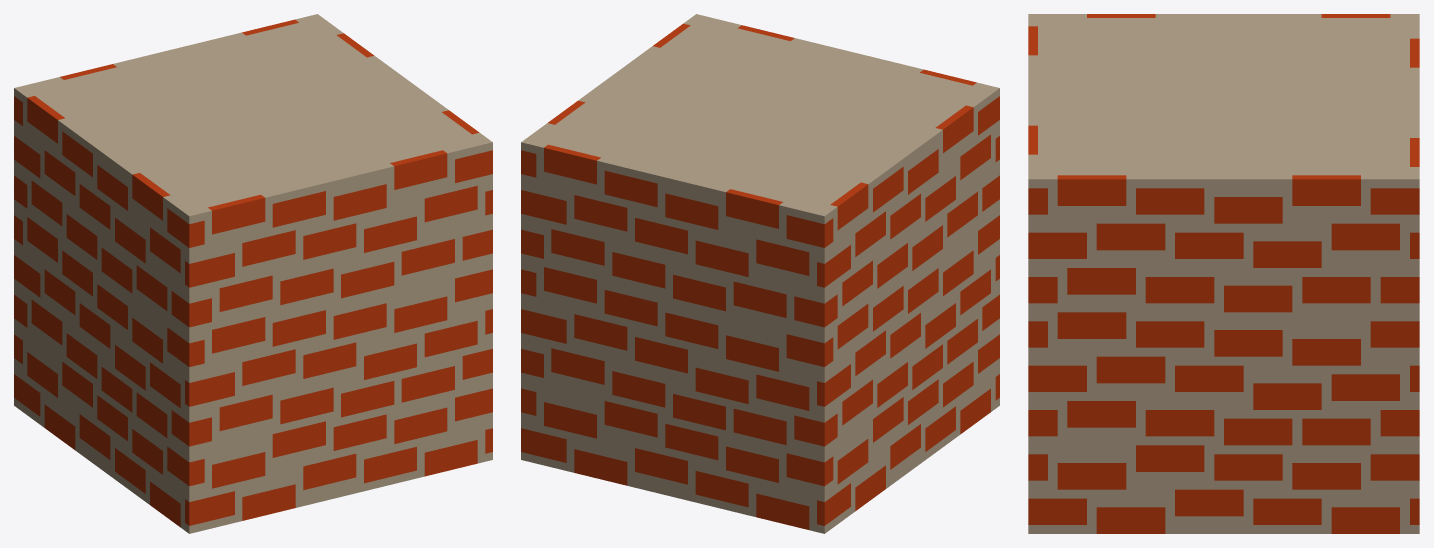
The model's file is wall_brick_40_staggered.obj.
3 renders of one model, left to right at view 1: azimuth 30°, elevation 25°; view 2: azimuth 150°, elevation 25°; view 3: azimuth 270°, elevation 25°, orthographic. The views are drawn at different scales.
Bounding box in the file's own units: 40 × 40 × 40.
